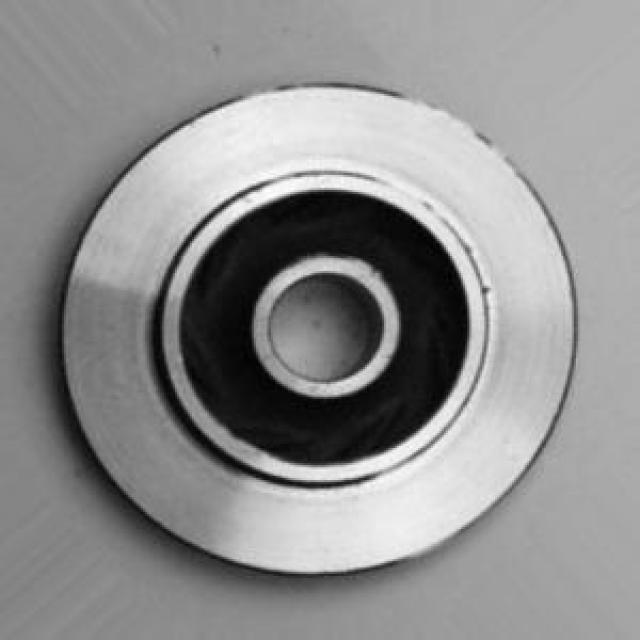Defect: (476, 280, 502, 307)
